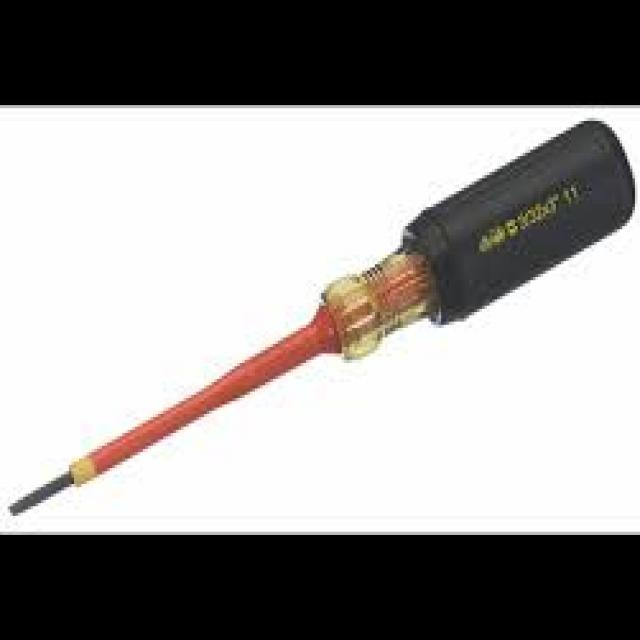screwdriver: (4, 116, 640, 524)
